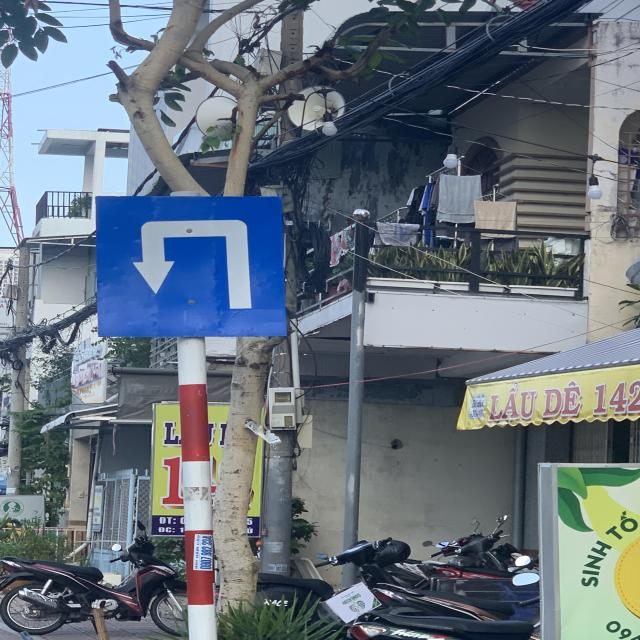Den_Giao_Thong: (96, 193, 284, 336)
